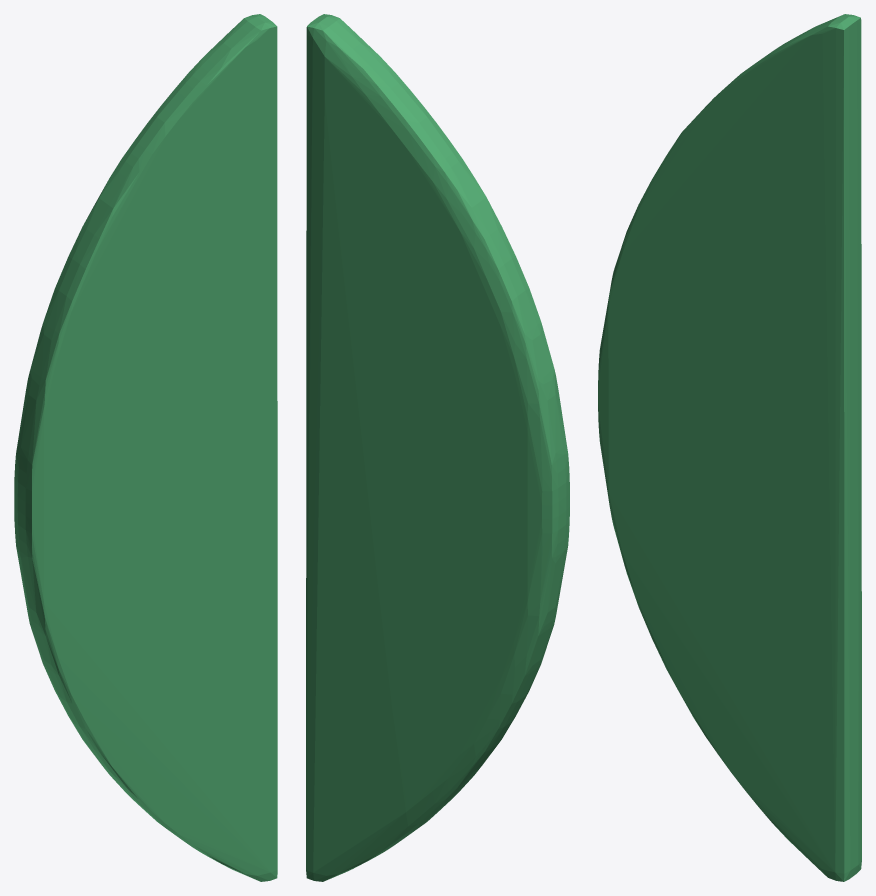
Rendered from right_forearm_0_part_3.obj.
3 renders of one model, left to right at view 1: azimuth 30°, elevation 25°; view 2: azimuth 150°, elevation 25°; view 3: azimuth 330°, elevation 25°, orthographic.
Size of the model in its own units: 35.88 by 118 by 5.36.
